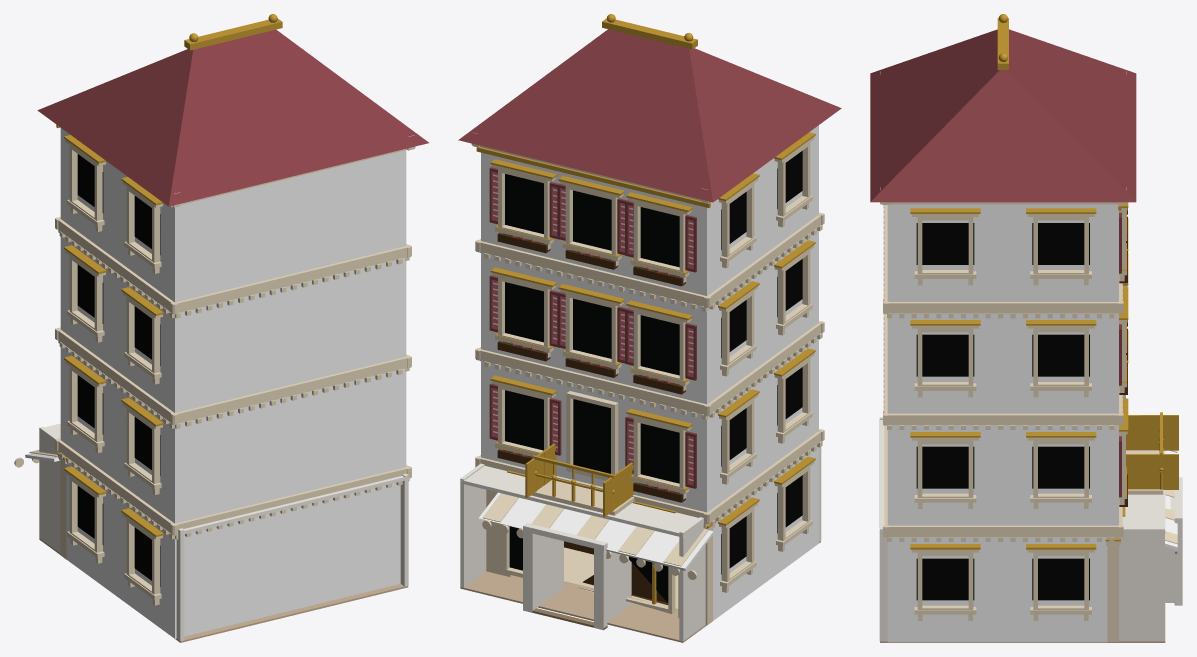
The model's file is gedung-g05-blender-v2.glb.
3 views of the same model, side by side, from view 1: azimuth 30°, elevation 25°; view 2: azimuth 150°, elevation 25°; view 3: azimuth 270°, elevation 25° (orthographic). The views are drawn at different scales.
Parts seen in each view (by area): view 1: Awning, Atap_Belakang, Awning_Scallop0, Int_Arch, Balkon_PintuBack, Bal_0_base; view 2: Awning_Scallop0, Atap_Belakang, Awning, Balkon_PintuBack, Int_Arch, Bal_0_base, EtalaseKanan_Back, Int_VestR, Int_VestL, Int_BayR, Int_BayL, Int_BayT; view 3: Awning, Atap_Belakang, Awning_Scallop0, Balkon_PintuBack, Bal_0_base, Int_Arch, Int_BayR, Int_VestR.
Part boxes in pixels (x1=…): Awning: x1=25, y1=128, x2=406, y2=638; Atap_Belakang: x1=37, y1=29, x2=428, y2=206; Awning_Scallop0: x1=14, y1=135, x2=415, y2=605; Int_Arch: x1=39, y1=423, x2=408, y2=642; Balkon_PintuBack: x1=77, y1=154, x2=160, y2=586; Bal_0_base: x1=56, y1=14, x2=282, y2=536; Awning_Scallop0: x1=471, y1=132, x2=824, y2=625; Atap_Belakang: x1=458, y1=29, x2=841, y2=488; Awning: x1=478, y1=125, x2=818, y2=620; Balkon_PintuBack: x1=505, y1=151, x2=802, y2=602; Int_Arch: x1=460, y1=447, x2=821, y2=642; Bal_0_base: x1=476, y1=14, x2=815, y2=604; EtalaseKanan_Back: x1=497, y1=233, x2=685, y2=605; Int_VestR: x1=536, y1=534, x2=563, y2=607; Int_VestL: x1=607, y1=552, x2=631, y2=621; Int_BayR: x1=523, y1=526, x2=536, y2=612; Int_BayL: x1=594, y1=543, x2=607, y2=629; Int_BayT: x1=523, y1=523, x2=607, y2=550; Awning: x1=887, y1=204, x2=1177, y2=642; Atap_Belakang: x1=870, y1=29, x2=1136, y2=497; Awning_Scallop0: x1=880, y1=71, x2=1177, y2=641; Balkon_PintuBack: x1=916, y1=223, x2=1089, y2=600; Bal_0_base: x1=910, y1=14, x2=1178, y2=549; Int_Arch: x1=879, y1=417, x2=1165, y2=642; Int_BayR: x1=1175, y1=518, x2=1182, y2=605; Int_VestR: x1=1165, y1=546, x2=1174, y2=602.
Bounding box in the file's own units: 7.98 × 15.81 × 8.1.
